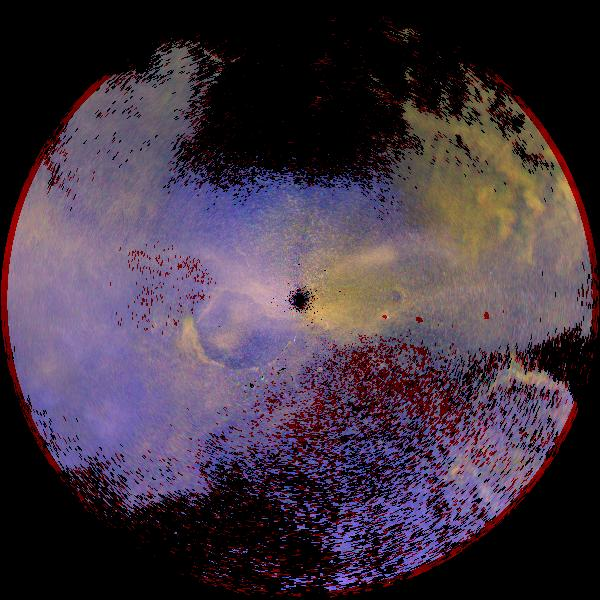roost: (81, 284, 243, 446)
